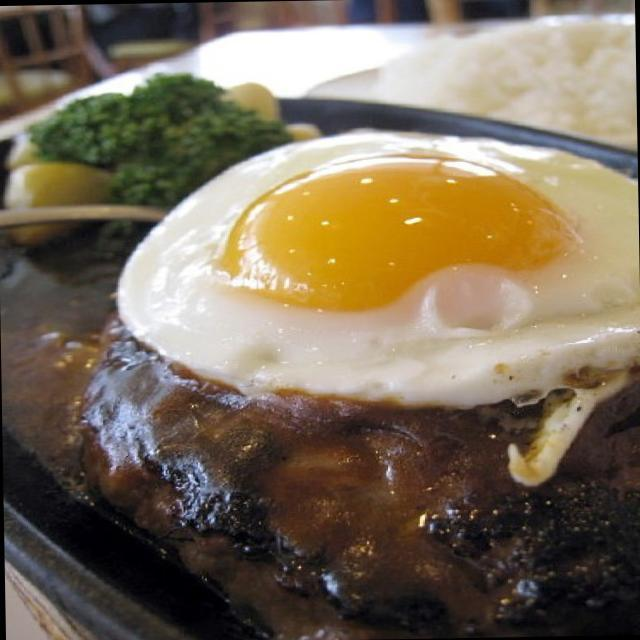Egg: (156, 143, 640, 402)
